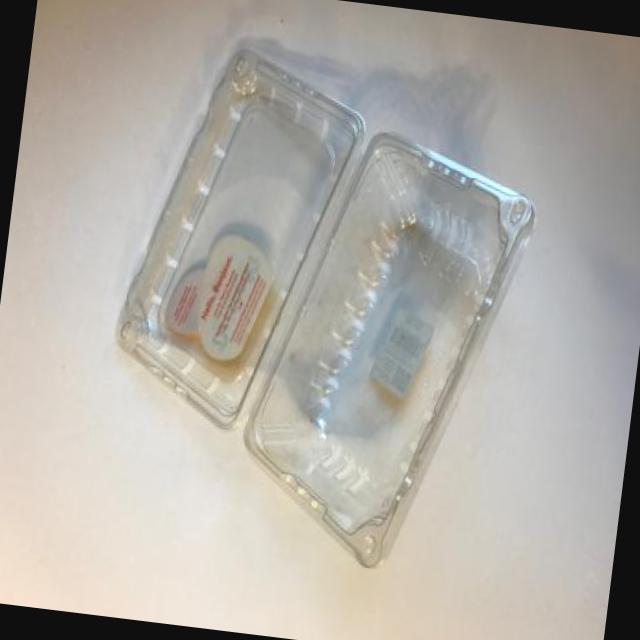Trash: (88, 33, 548, 583)
